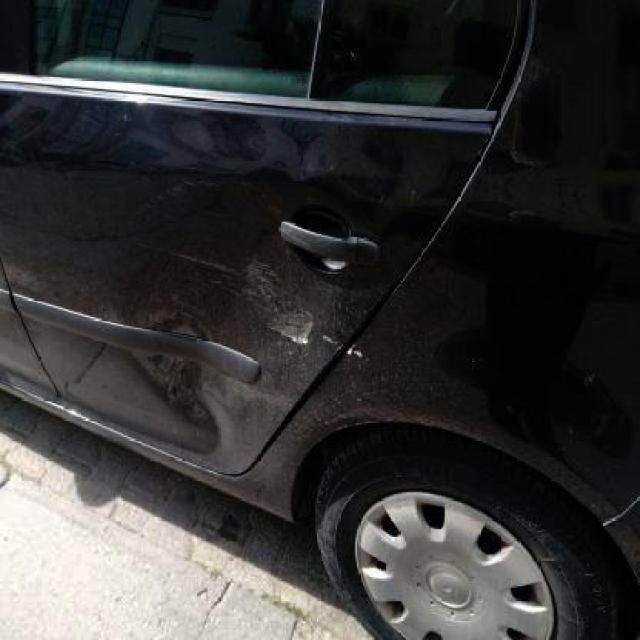car damage: (113, 254, 295, 474)
